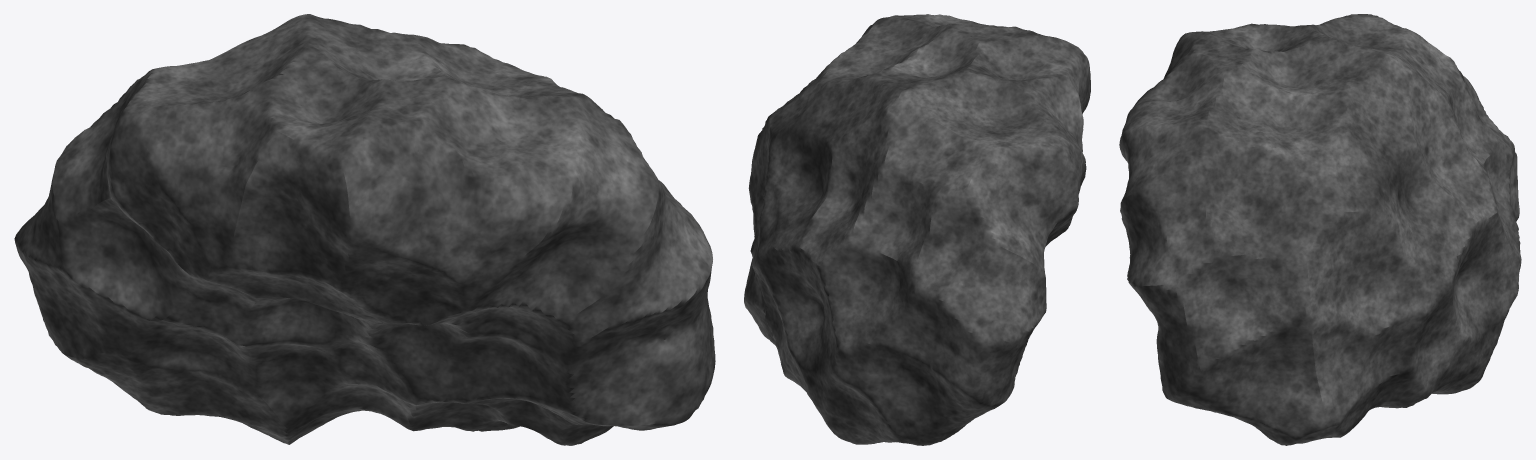
Rendered from asteroid_1.glb.
3 renders of one model, left to right at view 1: azimuth 30°, elevation 25°; view 2: azimuth 150°, elevation 25°; view 3: azimuth 270°, elevation 25°, orthographic. The views are drawn at different scales.
Parts seen in each view (by area): view 1: rock; view 2: rock; view 3: rock.
Part boxes in pixels (bbox=[...]): rock: bbox=[14, 14, 715, 445]; rock: bbox=[744, 14, 1090, 445]; rock: bbox=[1119, 14, 1521, 445].
Size of the model in its own units: 3.05 by 2.63 by 2.85.
Materials: 1 (1 with a texture image).
